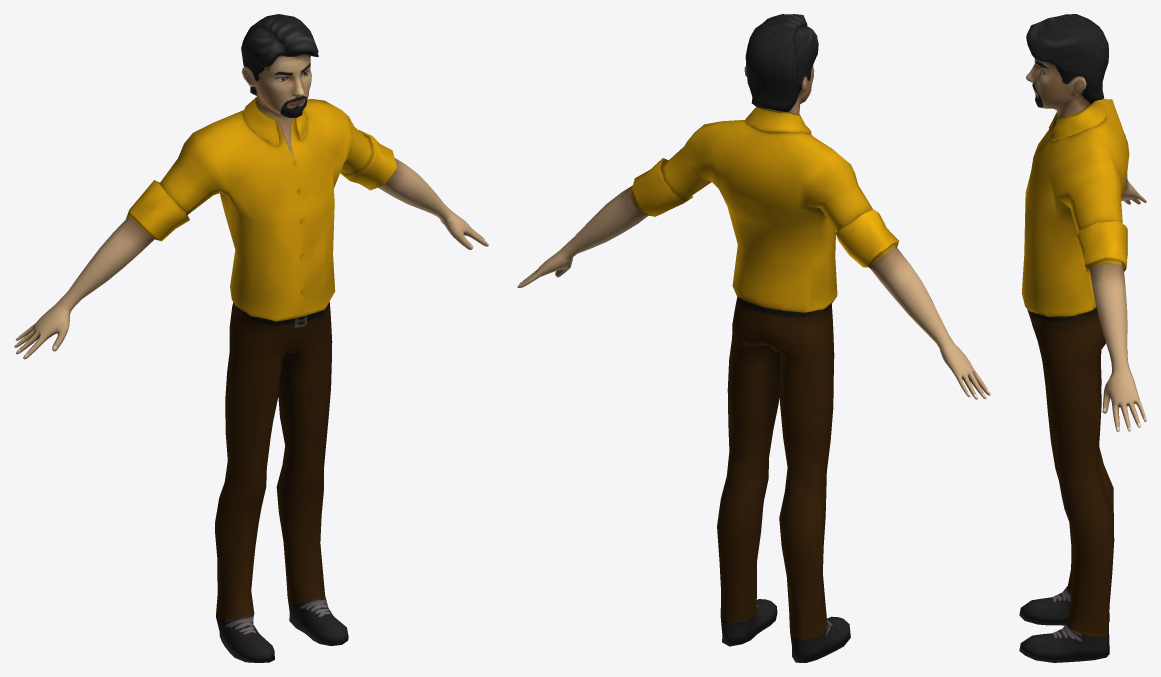
File: personagem.glb
The picture shows the model from 3 angles, left to right: view 1: azimuth 30°, elevation 25°; view 2: azimuth 150°, elevation 25°; view 3: azimuth 270°, elevation 25°; orthographic projection.
Parts seen in each view (by area): view 1: Retopo_Dono_Ferragem; view 2: Retopo_Dono_Ferragem; view 3: Retopo_Dono_Ferragem.
Boxes of the visible parts, x1,y1,x2,y2 form: Retopo_Dono_Ferragem: [14, 14, 488, 662]; Retopo_Dono_Ferragem: [517, 14, 990, 662]; Retopo_Dono_Ferragem: [1019, 14, 1146, 662].
Size of the model in its own units: 1.41 by 1.79 by 0.3334.
Materials: 1 (1 with a texture image).
